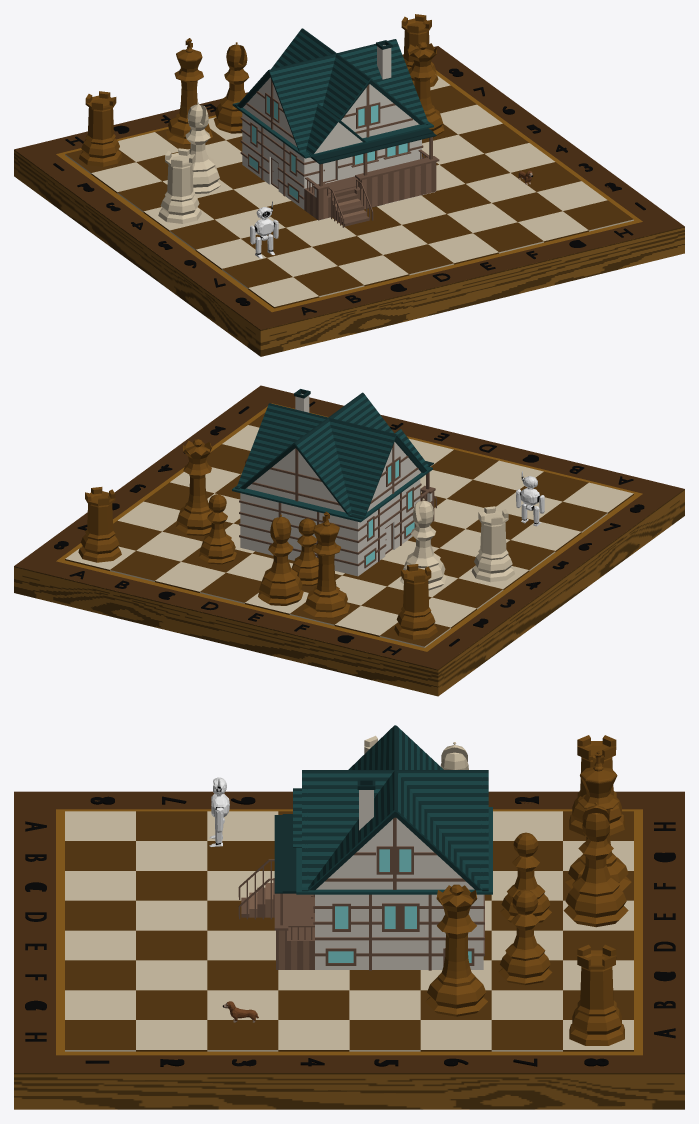
3 renders of one model, top to bottom at view 1: azimuth 30°, elevation 25°; view 2: azimuth 150°, elevation 25°; view 3: azimuth 270°, elevation 25°, orthographic. The views are drawn at different scales.
Visible parts, largest first — view 1: Cube.002, Cube.793, OBJRANDOM_PLATZEEBOT; view 2: Cube.002, Cube.793, OBJRANDOM_PLATZEEBOT; view 3: Cube.002, Cube.793, OBJRANDOM_PLATZEEBOT.
Boxes of the visible parts, x1,y1,x2,y2 form: Cube.002: [14, 14, 684, 356]; Cube.793: [232, 28, 439, 227]; OBJRANDOM_PLATZEEBOT: [250, 201, 278, 258]; Cube.002: [14, 385, 684, 696]; Cube.793: [232, 389, 436, 576]; OBJRANDOM_PLATZEEBOT: [516, 471, 544, 526]; Cube.002: [14, 735, 684, 1109]; Cube.793: [238, 725, 492, 970]; OBJRANDOM_PLATZEEBOT: [209, 777, 229, 846].
Bounding box in the file's own units: 3981 × 1484 × 4012.
21 materials, 3 textured.
